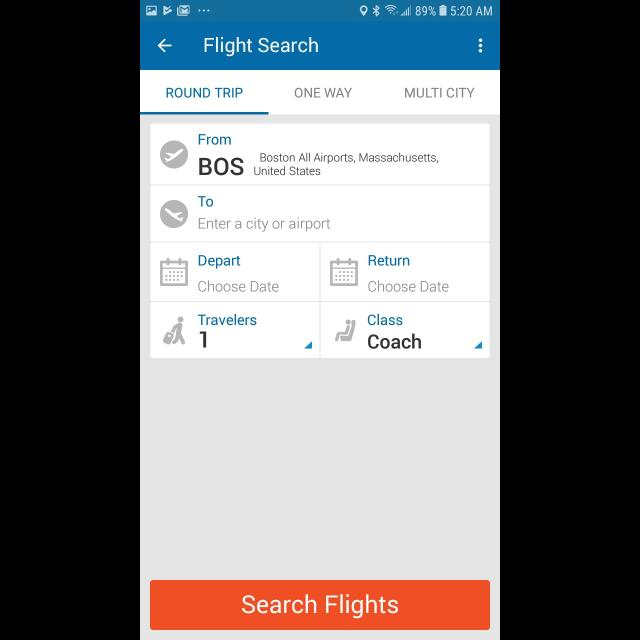icon: (160, 257, 188, 285), (330, 258, 358, 286), (158, 38, 172, 54), (479, 37, 483, 53), (304, 341, 312, 349), (474, 341, 482, 349)
image: (160, 141, 188, 169), (160, 200, 188, 228), (162, 317, 185, 345), (336, 320, 356, 342)
text: (205, 37, 319, 57), (261, 152, 439, 164), (199, 218, 331, 232), (404, 85, 474, 99), (198, 280, 278, 292), (369, 280, 449, 292), (368, 334, 422, 350), (166, 88, 244, 99), (200, 158, 244, 176), (198, 314, 258, 326), (255, 166, 321, 176), (295, 88, 353, 99), (198, 254, 240, 268), (368, 256, 409, 266), (198, 134, 232, 146), (368, 314, 402, 326), (198, 196, 214, 208), (200, 332, 207, 348)
textbutton: (150, 580, 490, 630)
uppertaskbar: (140, 1, 500, 22)
